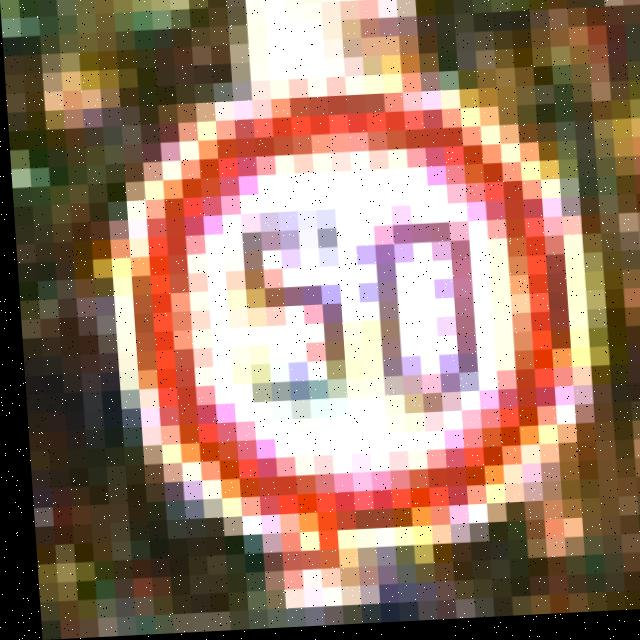speed_limit_50: (83, 86, 618, 538)
